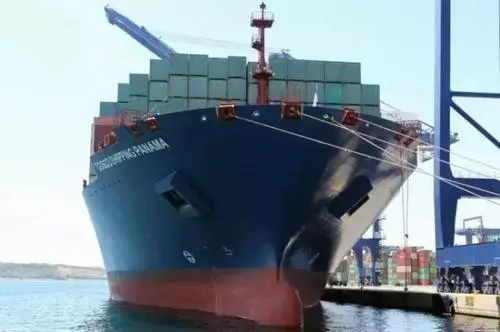Cargoship: (75, 3, 460, 324)
